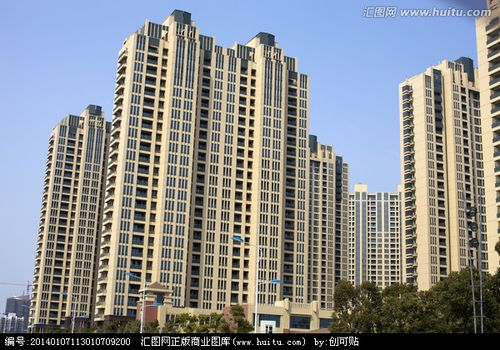buildings: (79, 29, 348, 327), (381, 56, 496, 293), (24, 104, 128, 336)
